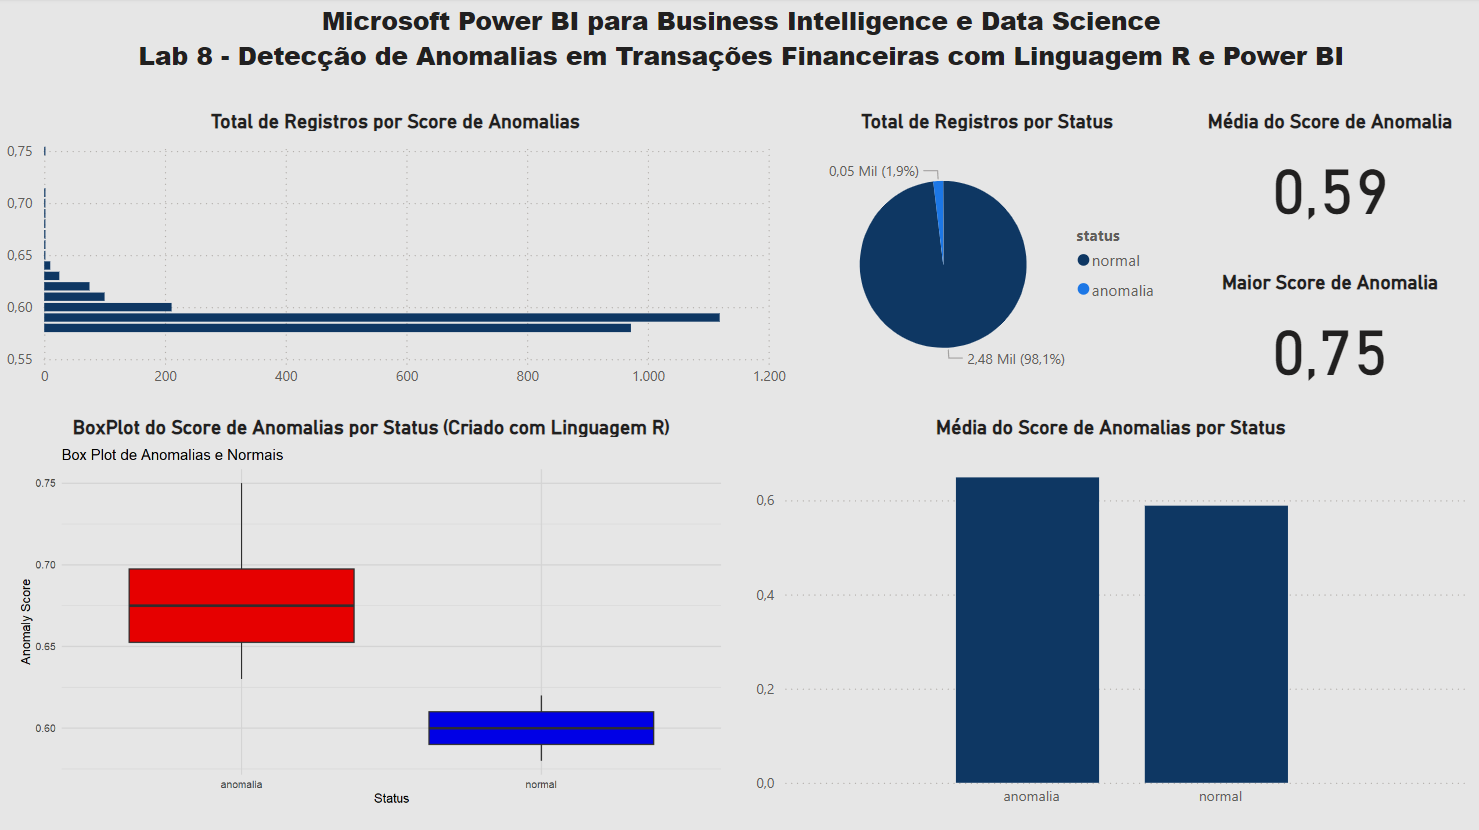

What the dashboard file says about the page in this screenshot:
{"tool":"powerbi","page":{"name":"Lab8","canvas":[1280,720],"ordinal":0},"visuals":[{"type":"columnChart","title":"Média do Score de Anomalias por Status","fields":{"Category":["previsoes_novos_dados.status"],"Y":["Avg(previsoes_novos_dados.anomaly_score)"]},"box":[647.8,359.9,622.5,347.2],"z":0},{"type":"scriptVisual","title":"BoxPlot do Score de Anomalias por Status (Criado com Linguagem R)","fields":{"Values":["previsoes_novos_dados.status","previsoes_novos_dados.anomaly_score"]},"box":[8.8,359.9,624.4,347.2],"z":1},{"type":"textbox","box":[0,0,1280,72],"z":2},{"type":"card","title":"Média do Score de Anomalia","fields":{"Values":["Avg(previsoes_novos_dados.anomaly_score)"]},"box":[1025.2,95.3,245.1,109.9],"z":3},{"type":"card","title":"Maior Score de Anomalia","fields":{"Values":["Max(previsoes_novos_dados.anomaly_score)"]},"box":[1025.2,234.4,245.1,109.9],"z":4},{"type":"pieChart","title":"Total de Registros por Status","fields":{"Category":["previsoes_novos_dados.status"],"Y":["CountNonNull(previsoes_novos_dados.id)"]},"box":[694.5,95.3,316.1,249],"z":5},{"type":"barChart","title":"Total de Registros por Score de Anomalias","fields":{"Category":["previsoes_novos_dados.anomaly_score"],"Y":["CountNonNull(previsoes_novos_dados.id)"]},"box":[0,95.3,683.8,249],"z":6}]}

Visuals, with their boxes in screenshot pixels (x1, y1, x2, y2), scaled from the page's 1280x720 canvas onto the 1479x830 screenshot:
"Média do Score de Anomalias por Status" columnChart: pyautogui.locateOnScreen(749, 415, 1468, 815)
"BoxPlot do Score de Anomalias por Status (Criado com Linguagem R)" scriptVisual: pyautogui.locateOnScreen(10, 415, 732, 815)
textbox: pyautogui.locateOnScreen(0, 0, 1478, 83)
"Média do Score de Anomalia" card: pyautogui.locateOnScreen(1185, 110, 1468, 237)
"Maior Score de Anomalia" card: pyautogui.locateOnScreen(1185, 270, 1468, 397)
"Total de Registros por Status" pieChart: pyautogui.locateOnScreen(802, 110, 1168, 397)
"Total de Registros por Score de Anomalias" barChart: pyautogui.locateOnScreen(0, 110, 790, 397)
